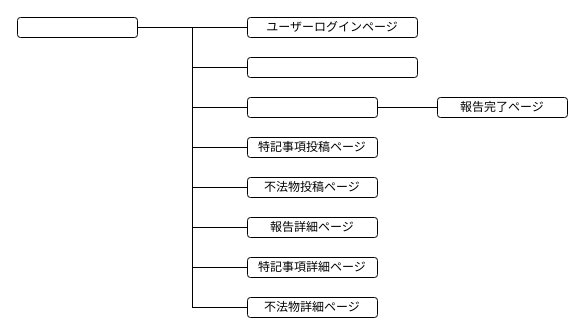
This 585x335 diagram has some shape labels left out. Here are the shapes that lost their labels. From the top down, the box of each, then its label:
(16, 16, 138, 38): 一覧ページ
(246, 56, 418, 78): ユーザー新規登録ページ
(246, 96, 378, 118): 報告投稿ページ
